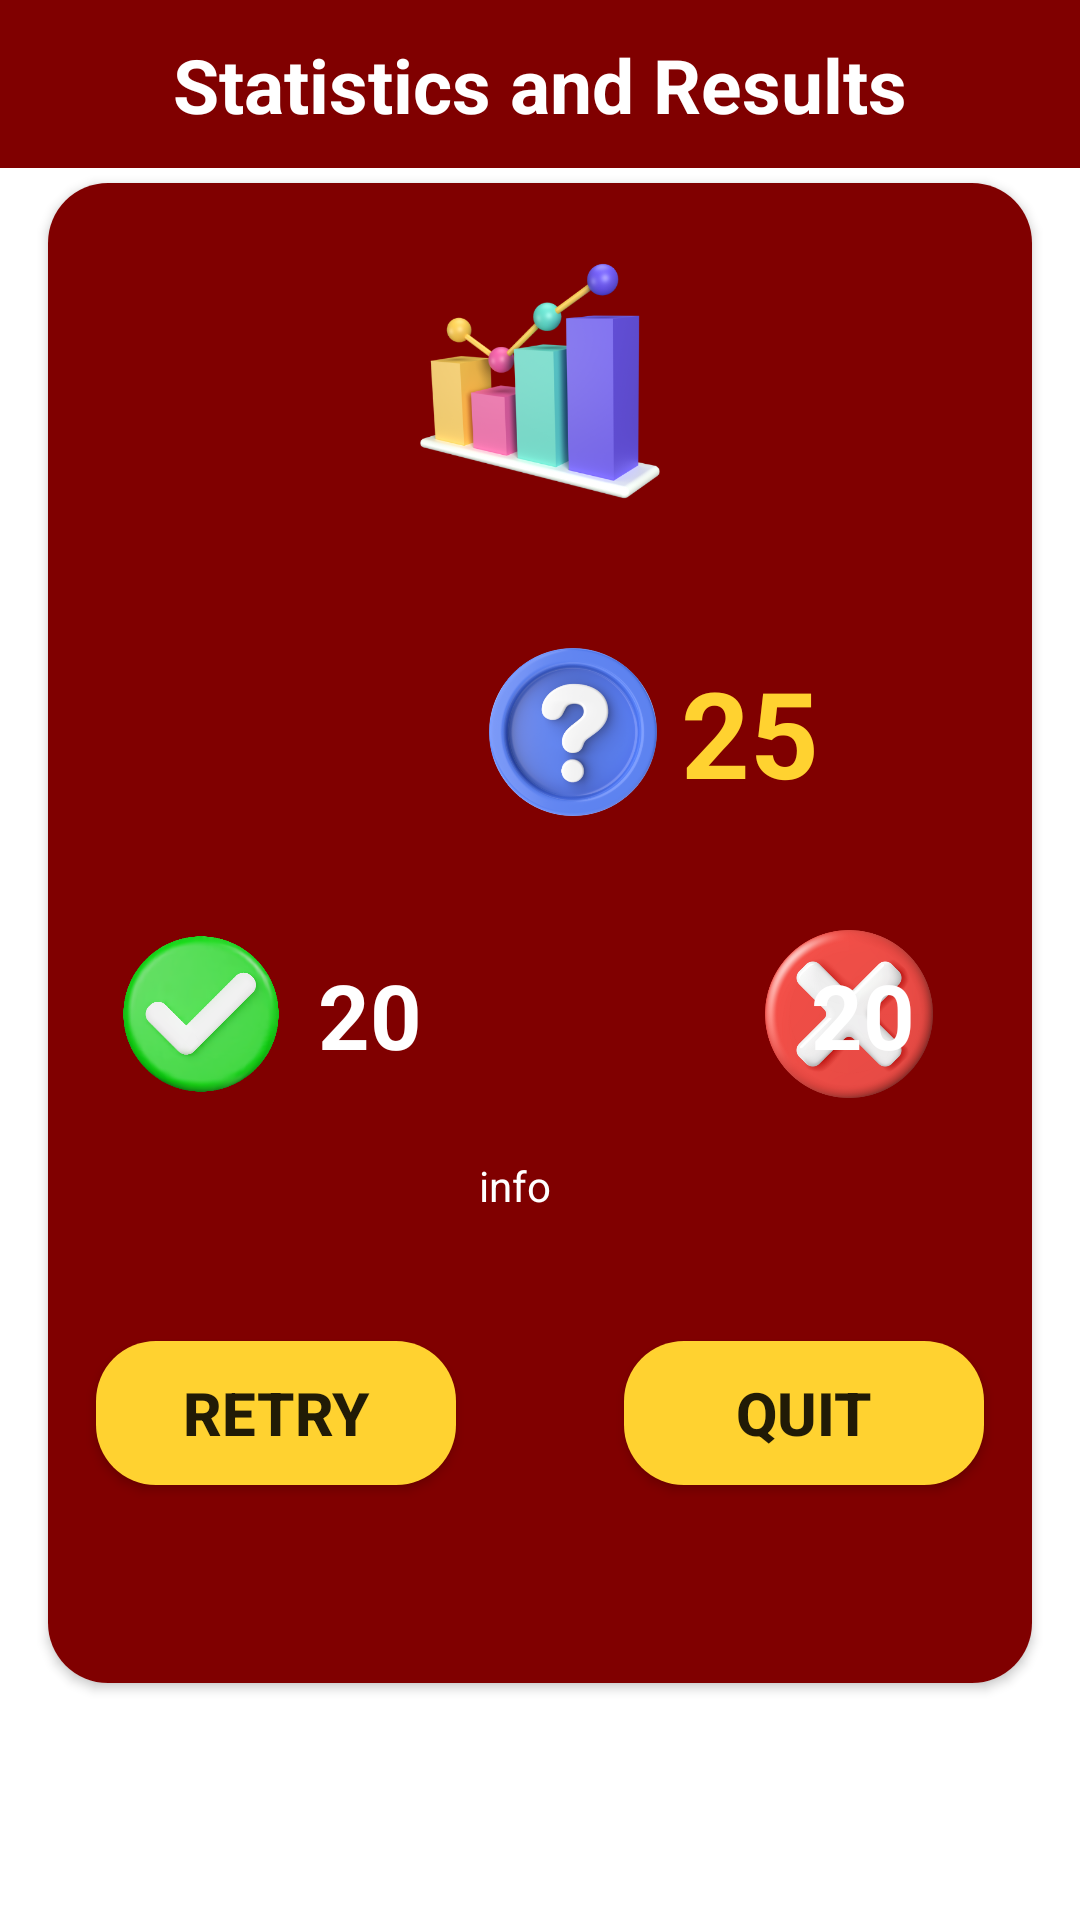

Where to tap for icons on this 1080 x 1920 app screen, as point (x, y):
check: point (201, 1014)
question: point (573, 732)
